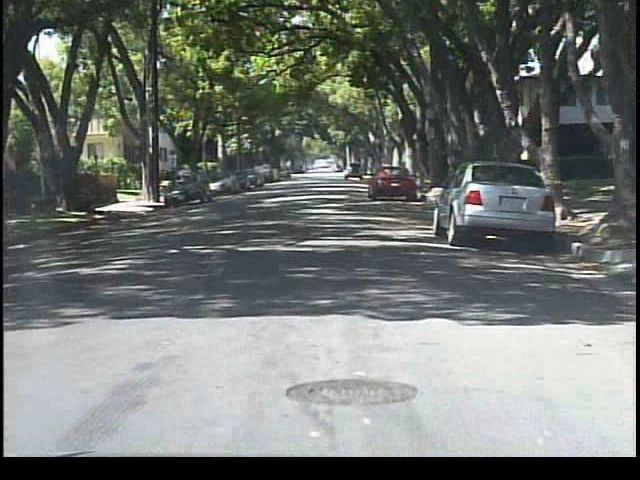person: (175, 167, 194, 199)
